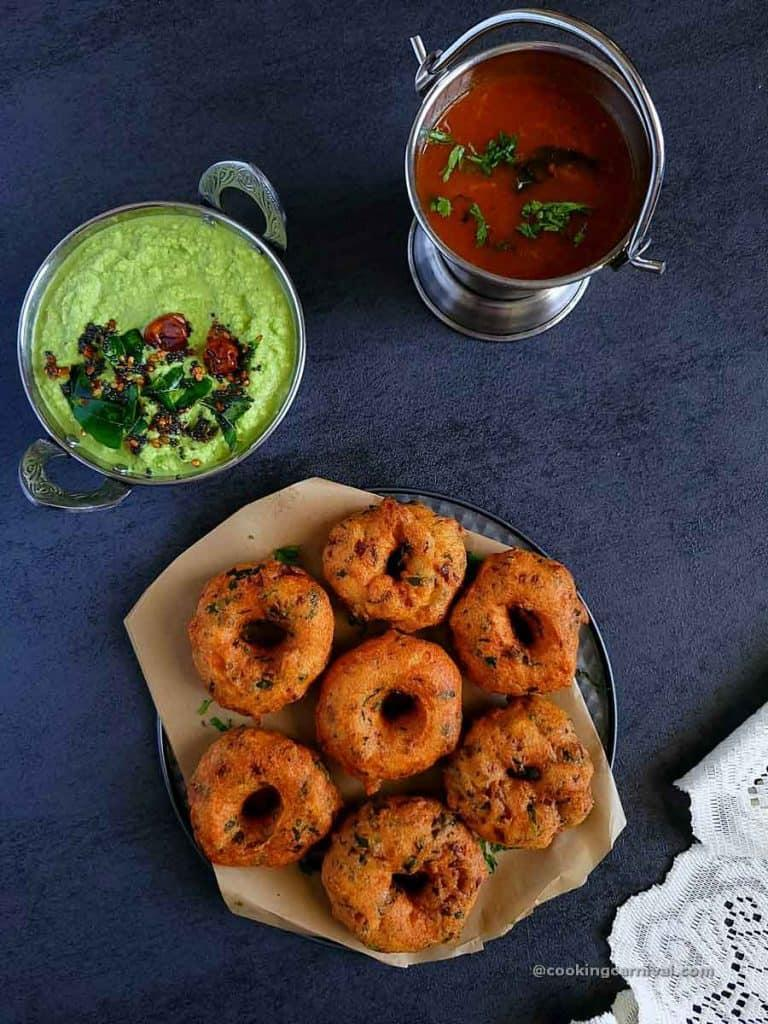mvada: (234, 578, 558, 876)
